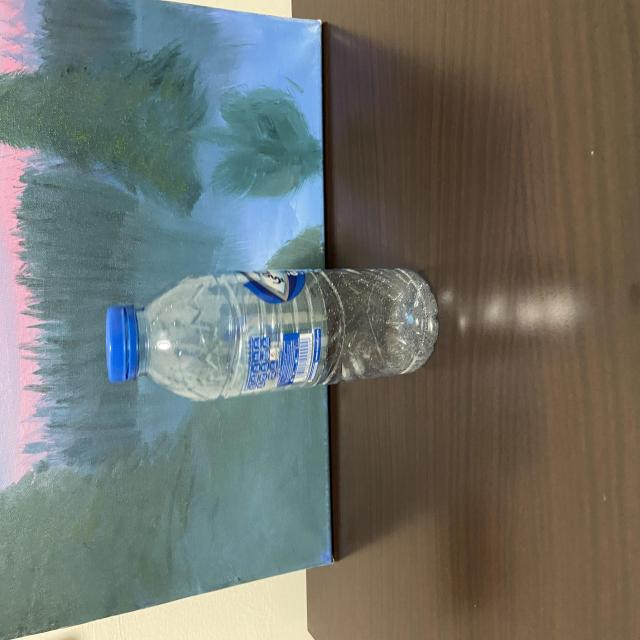bottle: (100, 263, 399, 409)
